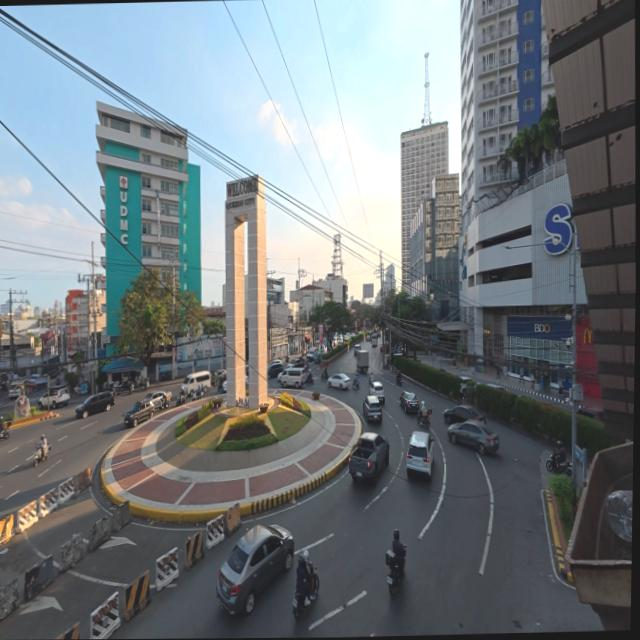bus: (371, 332, 378, 346)
car: (217, 524, 294, 614), (448, 420, 498, 454), (406, 432, 433, 478), (76, 391, 114, 418), (123, 398, 155, 427), (444, 406, 485, 424), (38, 388, 70, 409), (363, 396, 382, 422), (144, 390, 171, 407), (400, 391, 418, 413), (578, 408, 604, 422), (328, 373, 350, 389), (370, 380, 385, 403), (210, 368, 227, 386), (28, 374, 48, 387), (460, 376, 476, 392), (267, 361, 283, 377), (485, 383, 507, 392), (306, 348, 317, 361), (293, 357, 306, 368), (218, 379, 227, 392), (353, 343, 361, 354), (221, 380, 227, 392), (380, 345, 383, 351)
motorcycle: (387, 550, 405, 594), (546, 452, 572, 476), (33, 445, 50, 466), (293, 592, 305, 621), (417, 405, 431, 428), (175, 391, 187, 406), (192, 387, 204, 402), (157, 398, 169, 410), (138, 377, 149, 390), (303, 373, 314, 385), (0, 429, 9, 439), (352, 379, 360, 390), (321, 371, 329, 381), (396, 378, 402, 386)
trucks: (349, 432, 389, 483), (356, 350, 369, 372)
vans: (182, 370, 211, 396), (281, 368, 303, 388), (9, 383, 24, 399)
